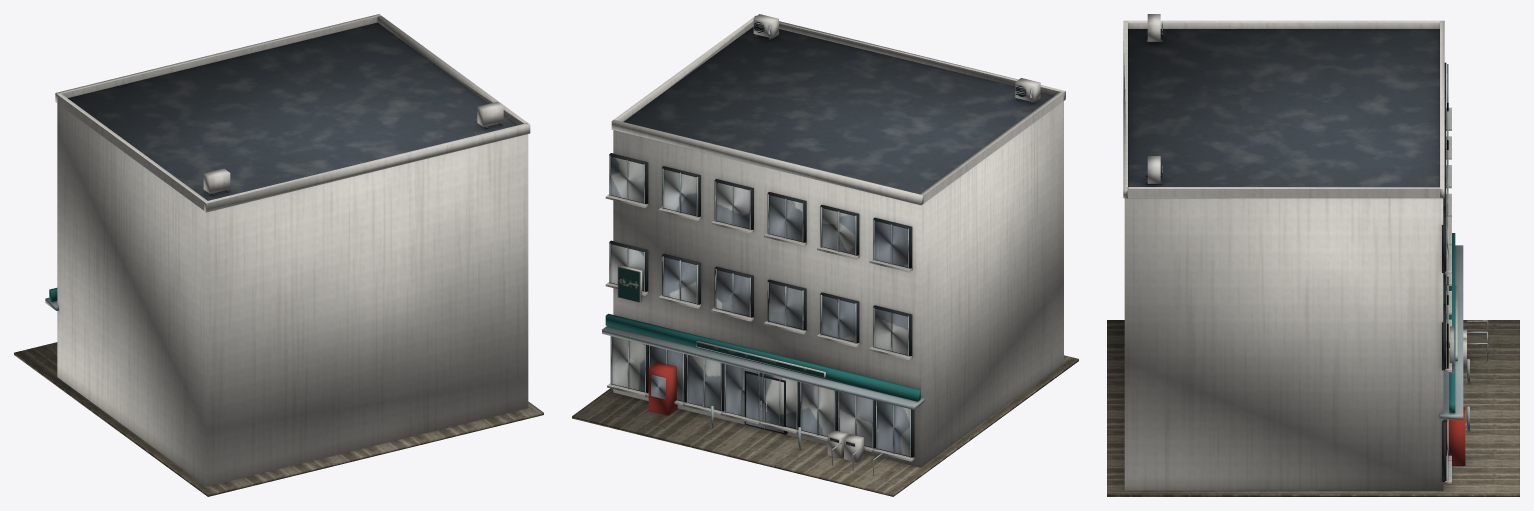
File: convenience_urban_001.lod1.obj
The picture shows the model from 3 angles, left to right: view 1: azimuth 30°, elevation 25°; view 2: azimuth 150°, elevation 25°; view 3: azimuth 270°, elevation 25°; orthographic projection. The views are drawn at different scales.
Visible parts, largest first — view 1: convenience_urban_001; view 2: convenience_urban_001; view 3: convenience_urban_001.
Boxes of the visible parts, x1=… form: convenience_urban_001: x1=14, y1=14, x2=543, y2=496; convenience_urban_001: x1=572, y1=14, x2=1078, y2=496; convenience_urban_001: x1=1107, y1=14, x2=1519, y2=496.
Bounding box in the file's own units: 14 × 11.95 × 14.
Materials: 1 (1 with a texture image).
